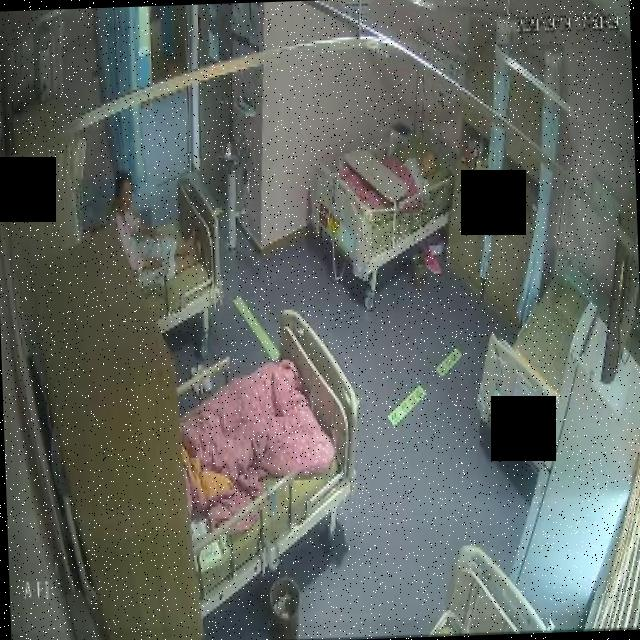bed: (174, 308, 364, 580), (296, 110, 456, 304), (471, 268, 596, 476), (120, 172, 224, 334)
patient: (104, 170, 204, 290), (396, 151, 444, 199)
sit: (103, 175, 202, 286)
